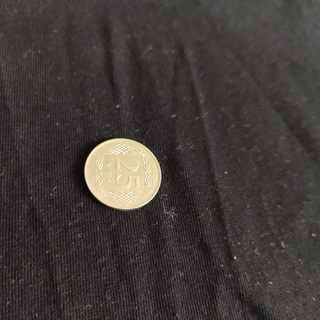25KURUS: (82, 136, 163, 211)
